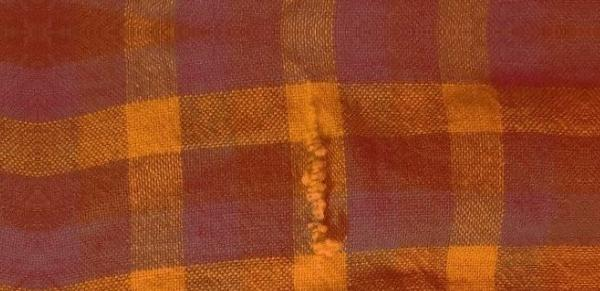knot: (299, 120, 350, 259)
